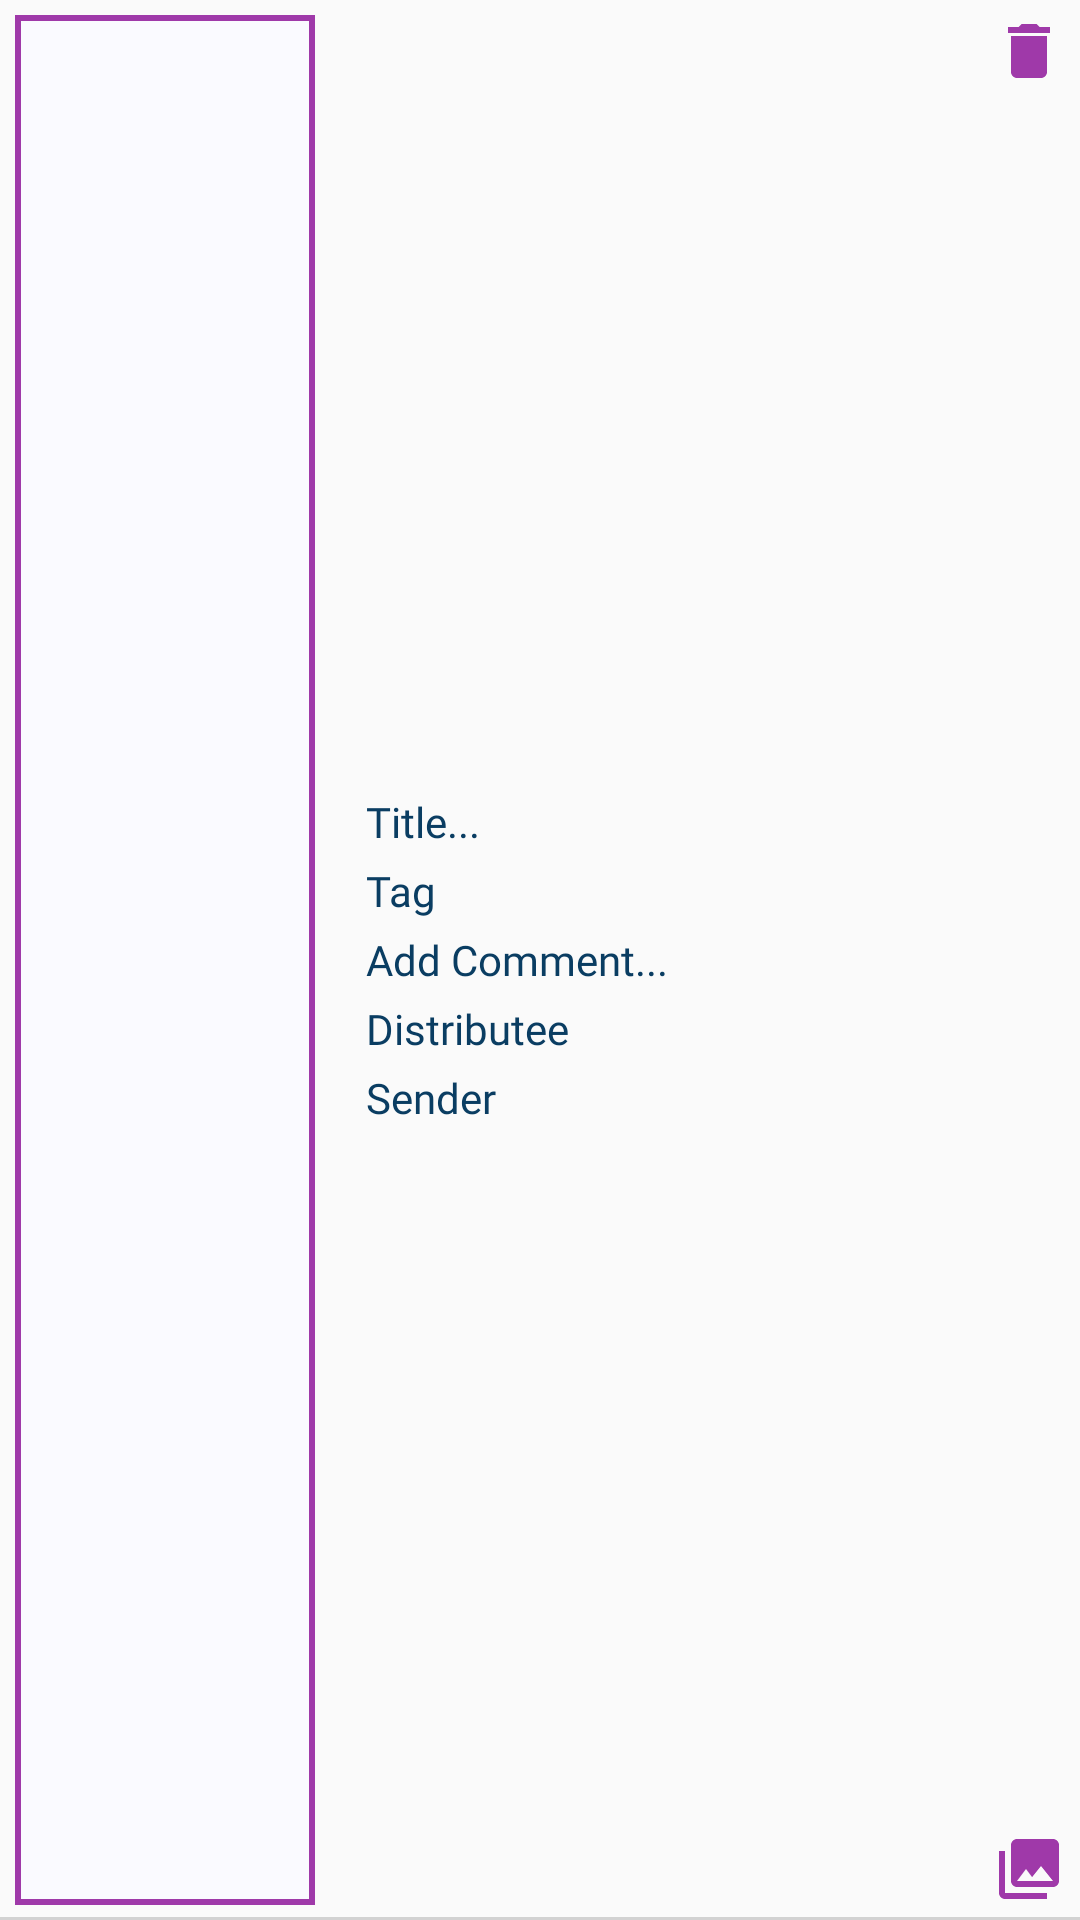

Where icons sit on this 1080px×1920px app screen, as (x1, y1, x2, y2):
delete: (1008, 24, 1050, 78)
view: (999, 1839, 1059, 1899)
